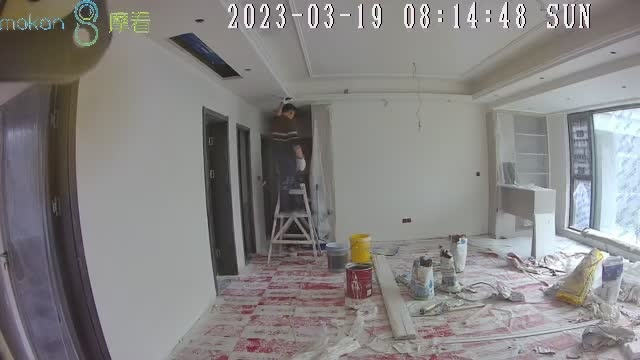people: (270, 98, 305, 214)
window: (566, 106, 640, 251)
